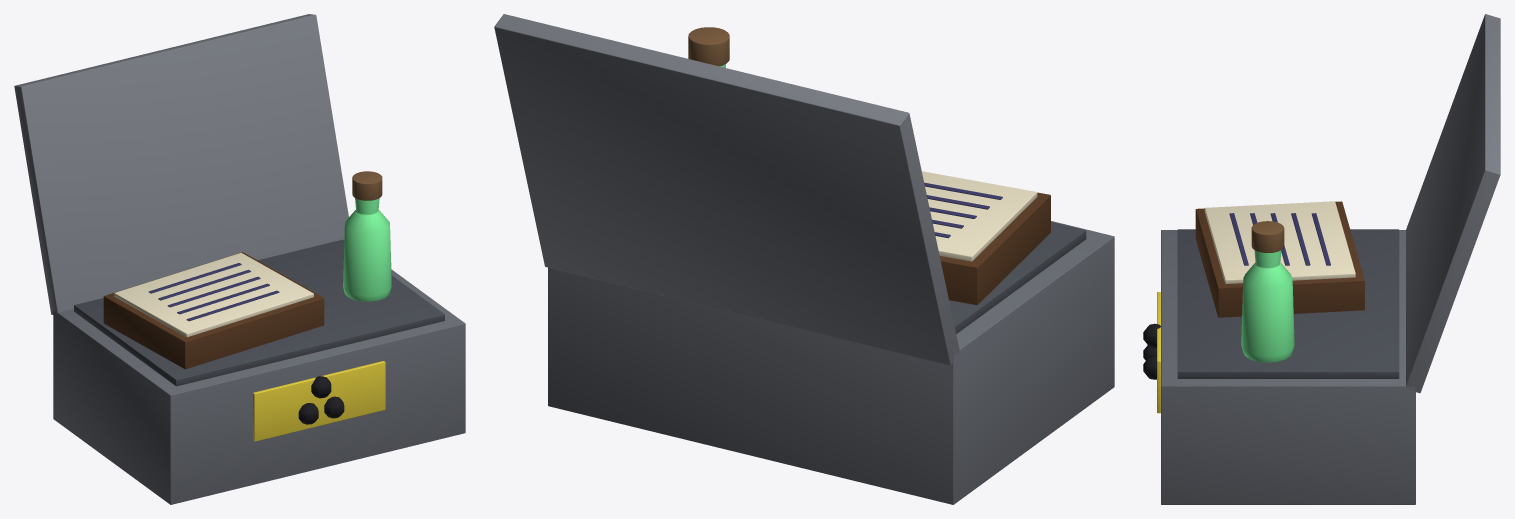
Rendered from curie_box.glb.
3 views of the same model, side by side, from view 1: azimuth 30°, elevation 25°; view 2: azimuth 150°, elevation 25°; view 3: azimuth 270°, elevation 25° (orthographic). The views are drawn at different scales.
Parts seen in each view (by area): view 1: curie_box; view 2: curie_box; view 3: curie_box.
Boxes of the visible parts, x1,y1,x2,y2 form: curie_box: (14, 14, 465, 504); curie_box: (494, 14, 1114, 504); curie_box: (1143, 14, 1500, 504).
Size of the model in its own units: 0.9 by 0.9001 by 0.8695.
